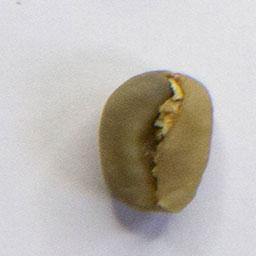peaberry: (94, 66, 218, 218)
